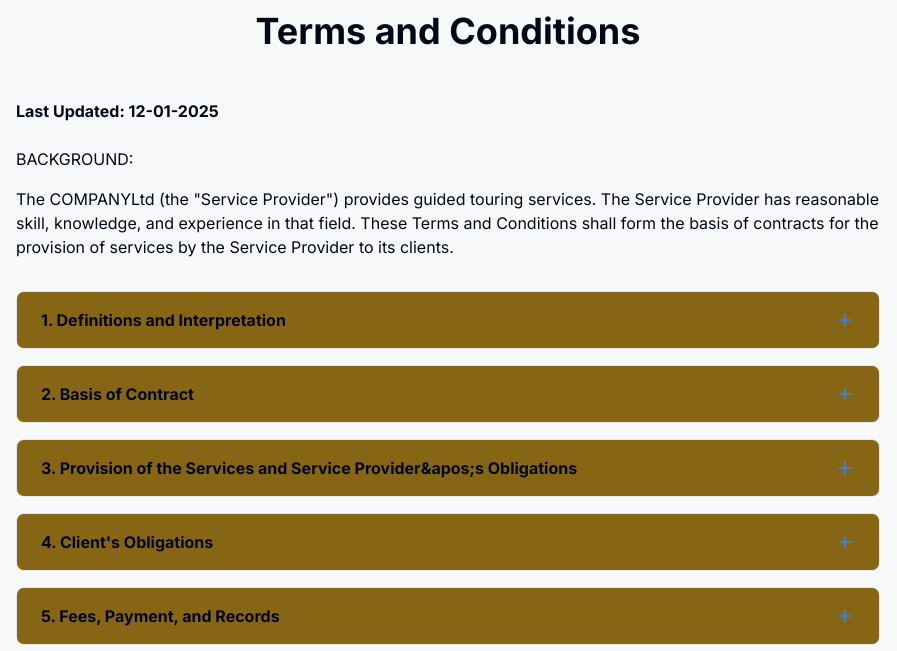
Terms and Conditions Page › displays definitions table in first section
The width and height of the screenshot is (897, 651).
Click the button "1. Definitions and Interpretation" at (163, 320), box [17,292,879,348]
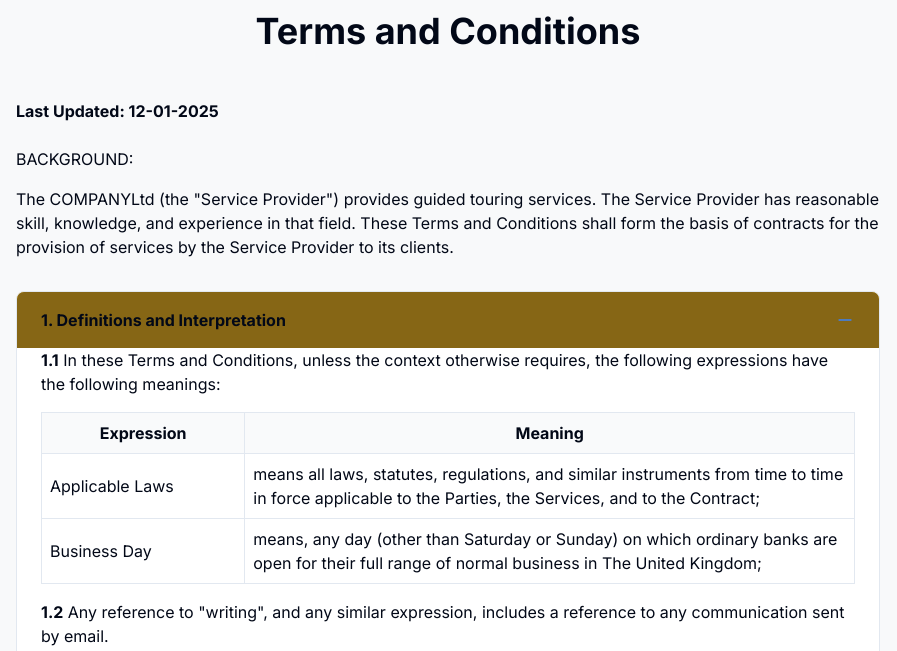
Expected: the table is shown, [41,412,855,584]
Expected: the number of column headings is 2, [42,412,245,454]; [245,412,855,454]
Expected: the column heading "Expression" is shown, [42,412,245,454]
